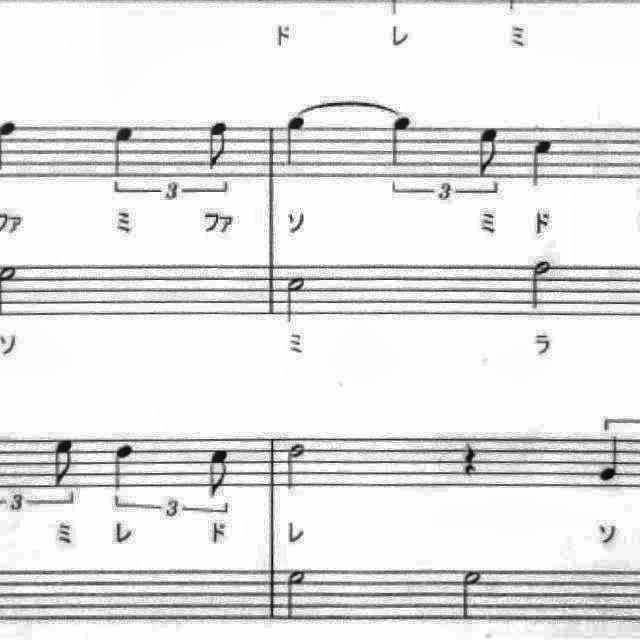Eighth-note: (199, 114, 237, 178), (472, 121, 508, 183), (202, 441, 236, 503), (48, 432, 82, 492)
Half-note: (453, 562, 491, 626), (524, 253, 558, 315), (279, 563, 313, 625), (279, 269, 313, 327), (280, 437, 312, 495)
Quarter-note: (106, 120, 144, 184), (522, 132, 560, 195), (593, 431, 631, 489), (278, 111, 314, 172), (384, 111, 418, 173), (104, 436, 140, 494)
Quarter-rest: (457, 437, 489, 485)
